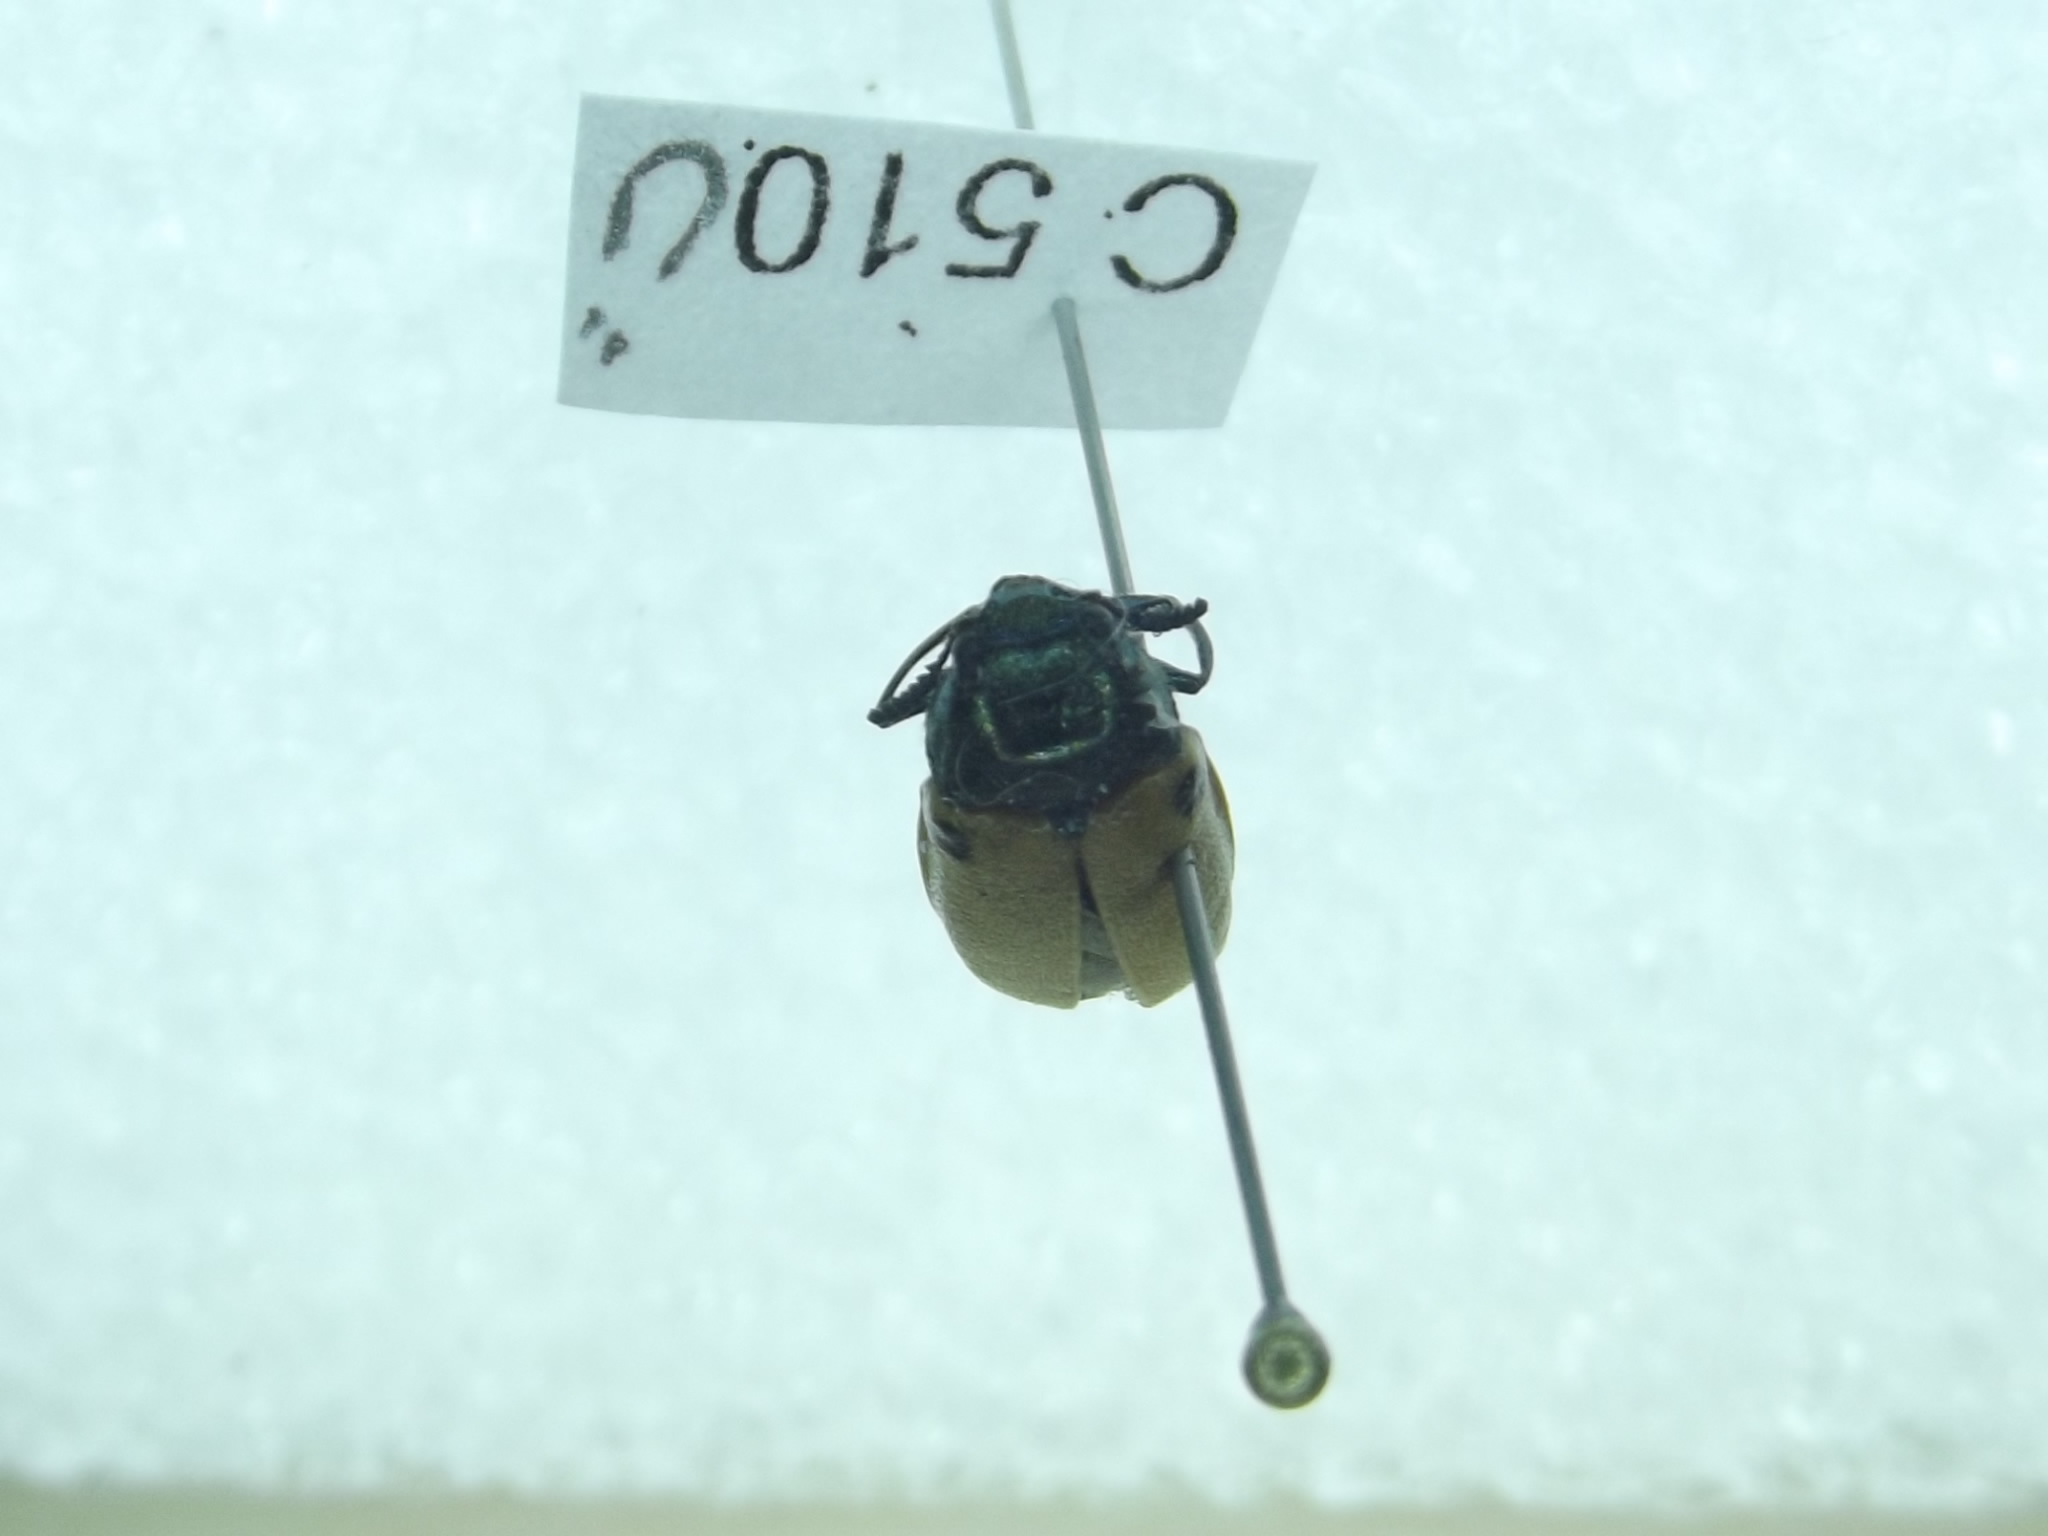Labidostomis_longimana: (861, 558, 1253, 1015)
